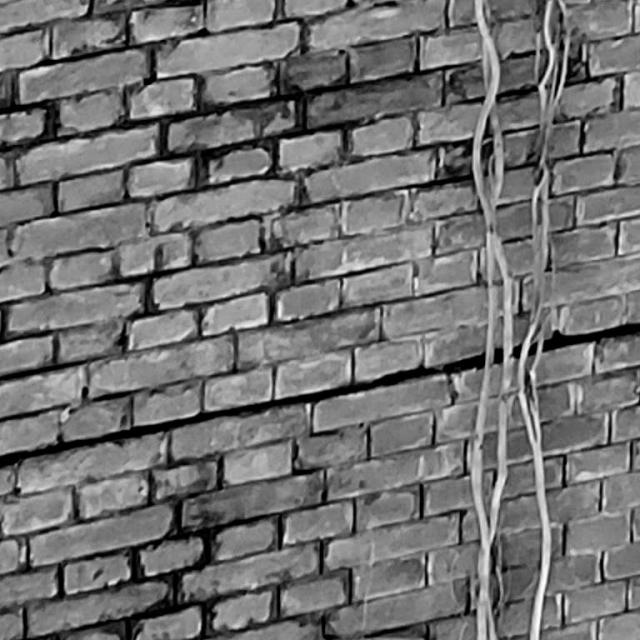crack: (1, 322, 639, 467)
